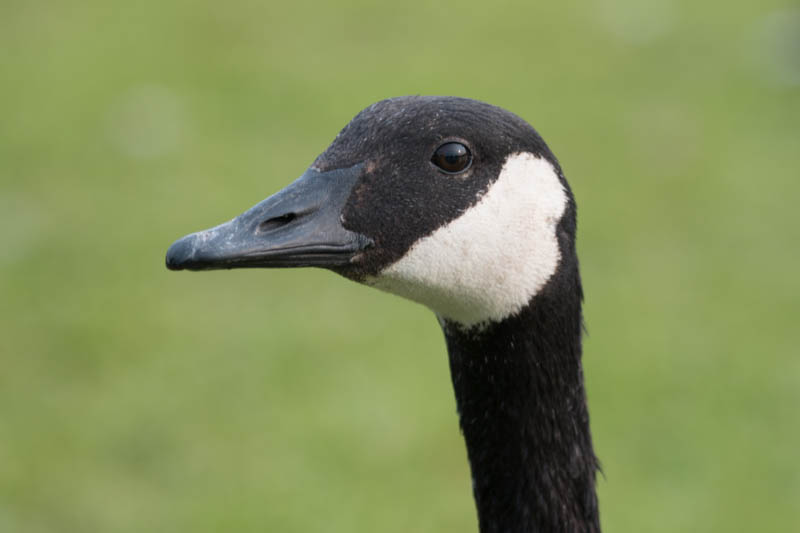goose-head: (164, 95, 582, 330)
